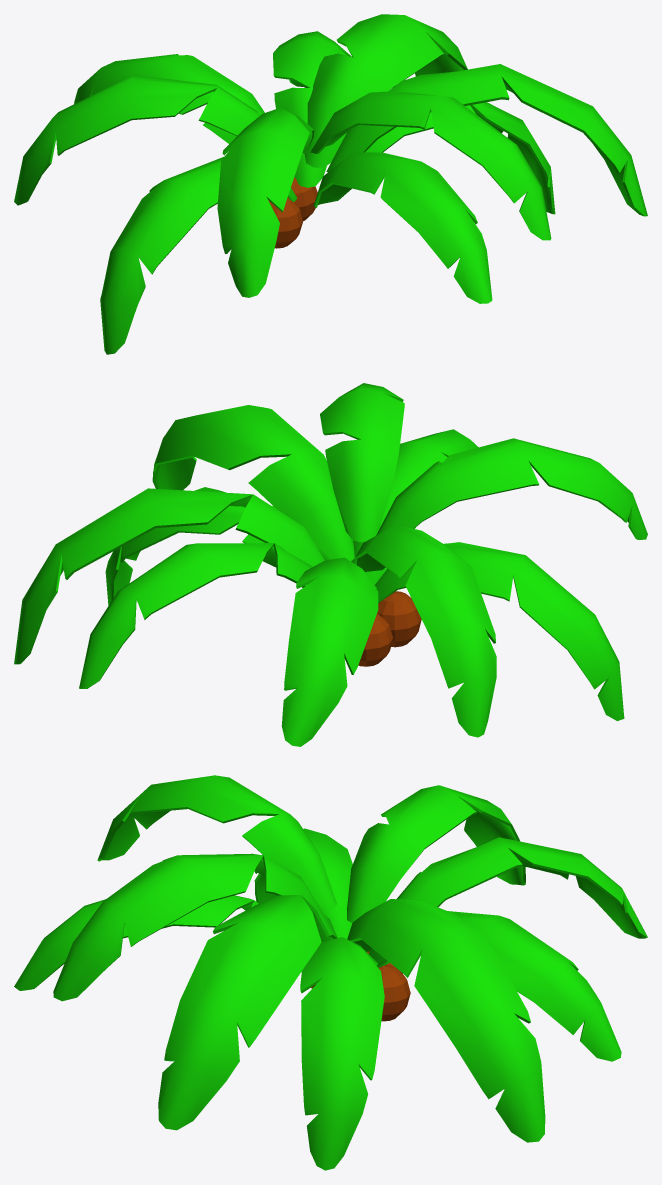
File: palm_foliage_02.fbx
3 views of the same model, one above another, from view 1: azimuth 30°, elevation 25°; view 2: azimuth 150°, elevation 25°; view 3: azimuth 270°, elevation 25° (orthographic). The views are drawn at different scales.
Visible parts, largest first — view 1: Plane013; view 2: Plane013; view 3: Plane013.
Part boxes in pixels (bbox=[...]): Plane013: bbox=[14, 14, 647, 354]; Plane013: bbox=[14, 383, 647, 746]; Plane013: bbox=[14, 775, 647, 1170].
Bounding box in the file's own units: 171 × 72.36 × 182.
